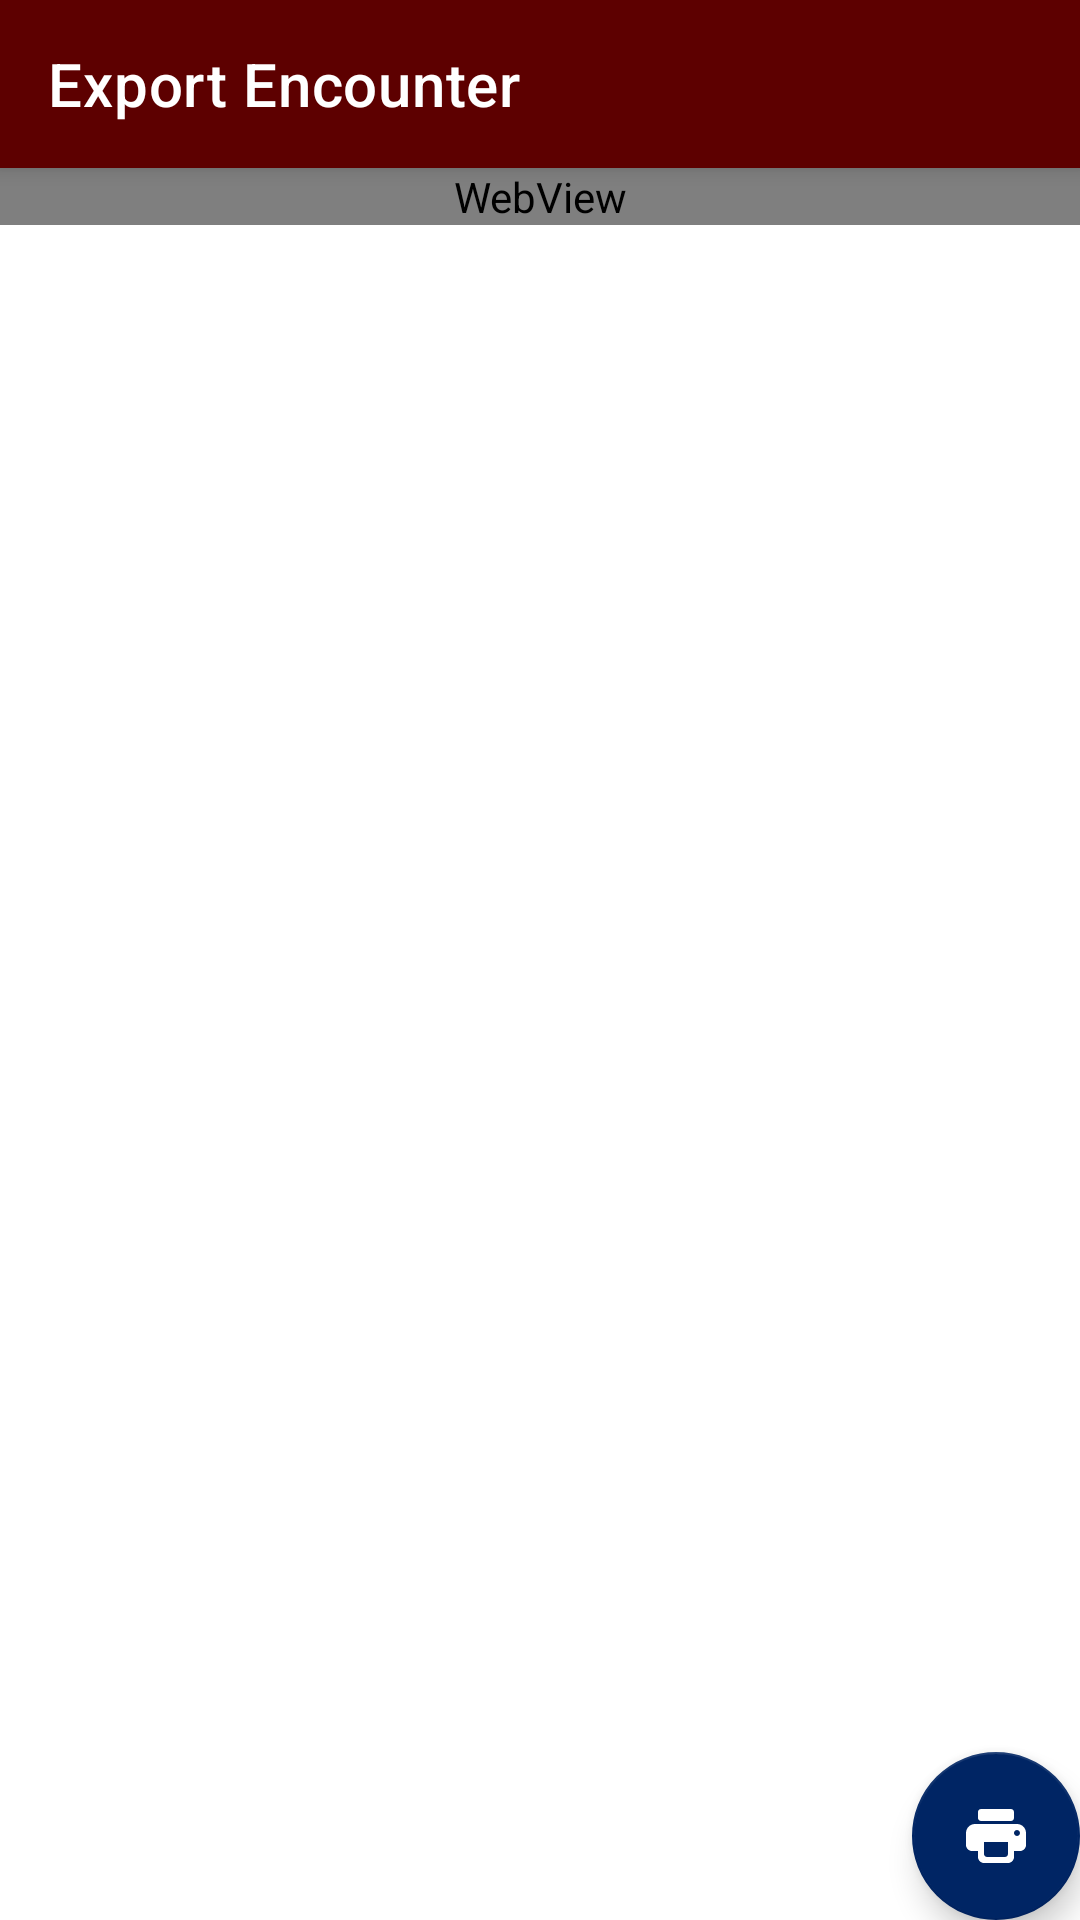

Icon click points for this 1080x1920 phone screenshot, format (x=x, y=y):
print: (x=996, y=1836)
